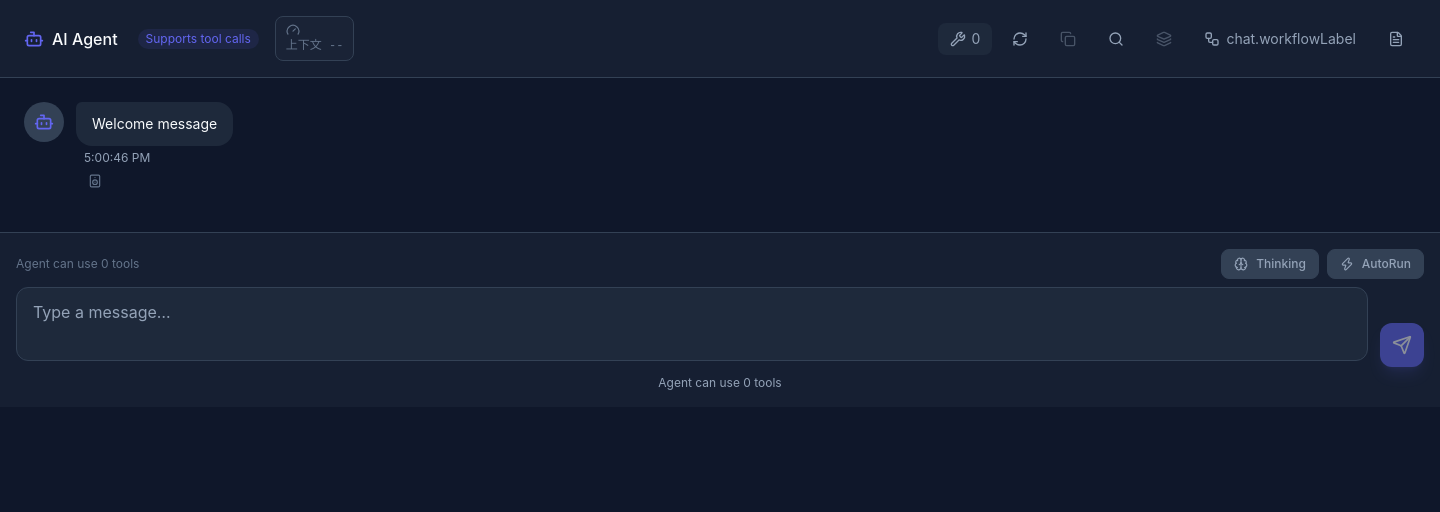
Test: AgentChat › clears search results and query
Step 1. Click the button titled "Search conversation" → (1116, 38), box [1096,24,1136,52]
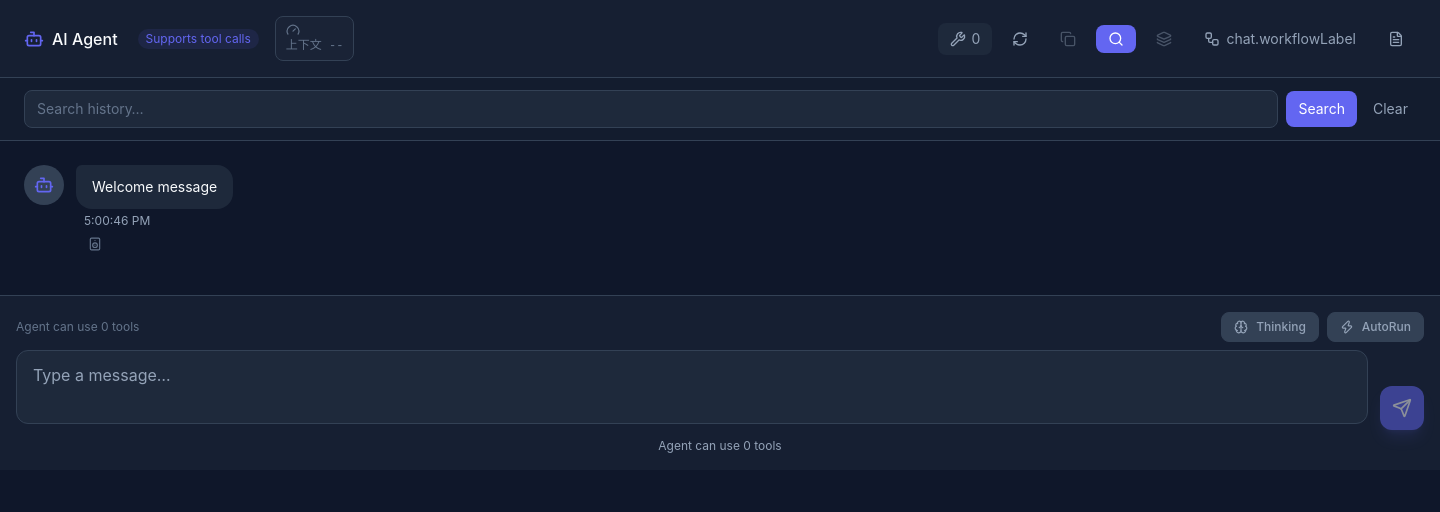
Step 2. Type "q" into the field with placeholder "Search history…" → (651, 109), box [24,90,1278,128]
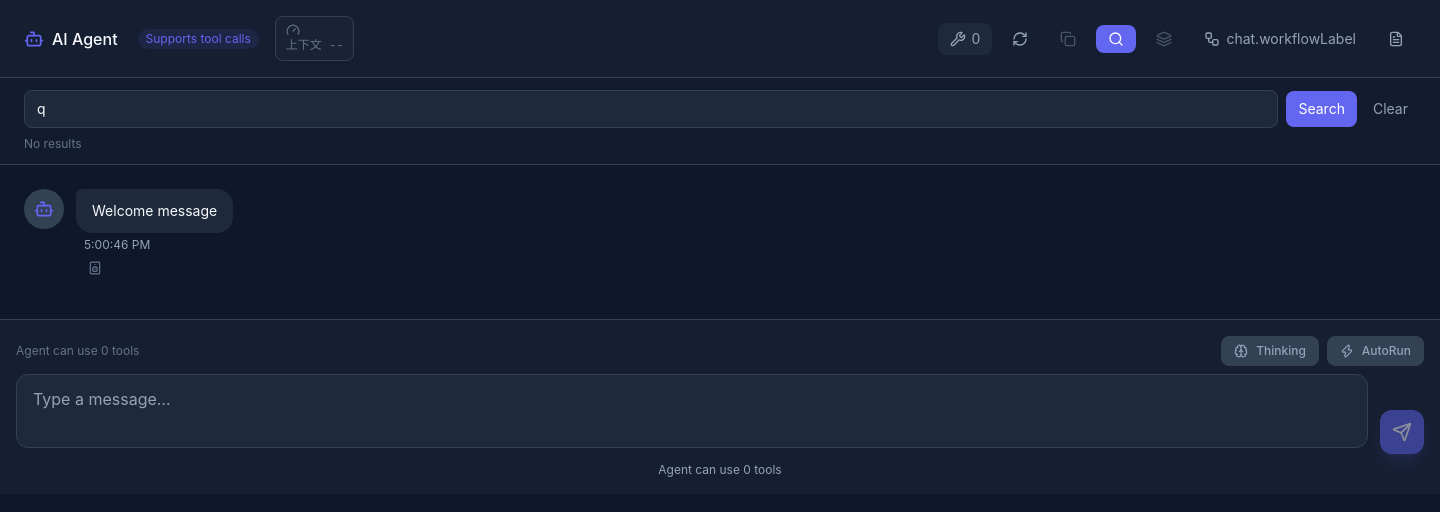
Step 3. Click the button "Search" → (1322, 109), box [1286,91,1357,127]
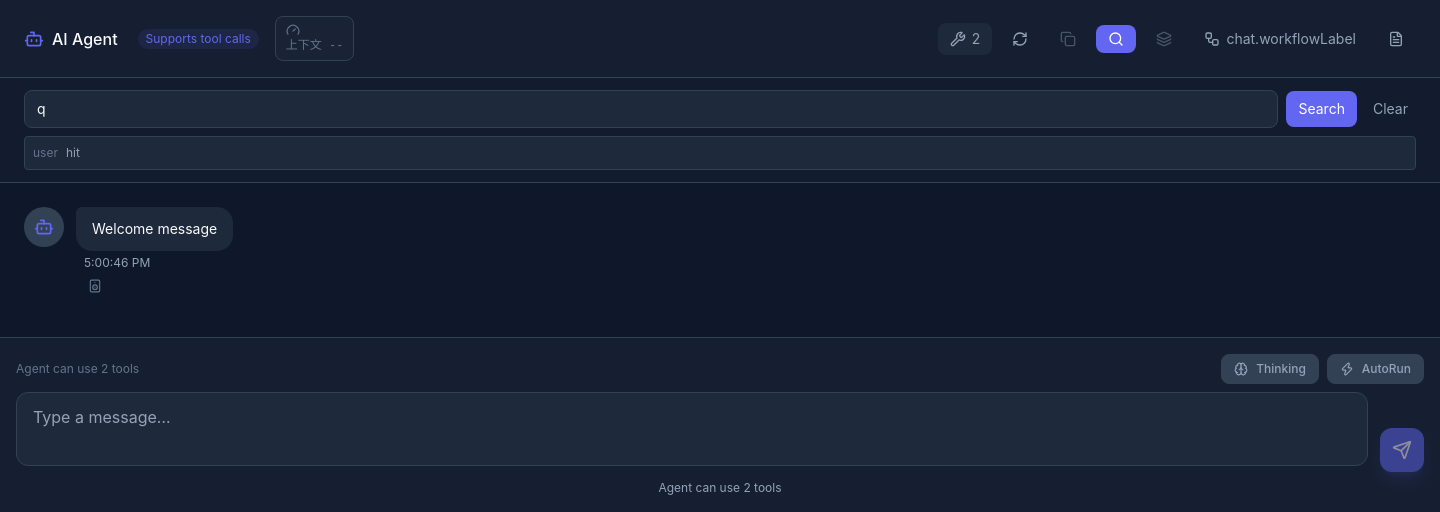
Check: the text "hit" is shown, box [66,145,80,160]
Step 4. Click the button "Clear" → (1390, 109), box [1365,91,1416,127]
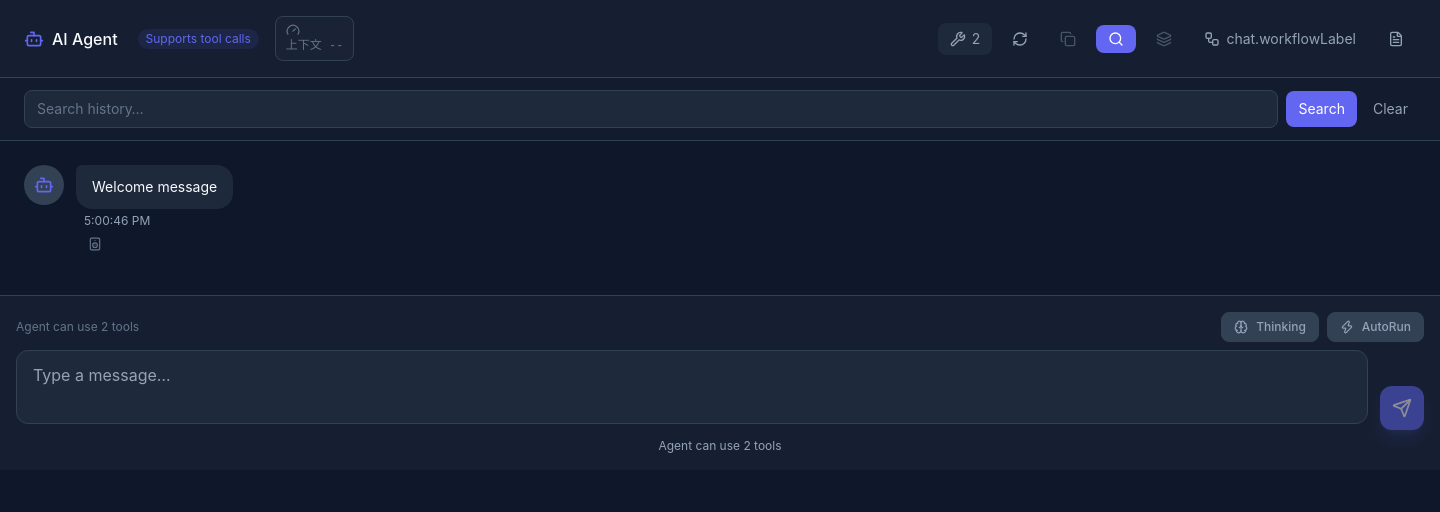
Check: the text "hit" is gone
Check: the field with placeholder "Search history…" is empty, box [24,90,1278,128]
